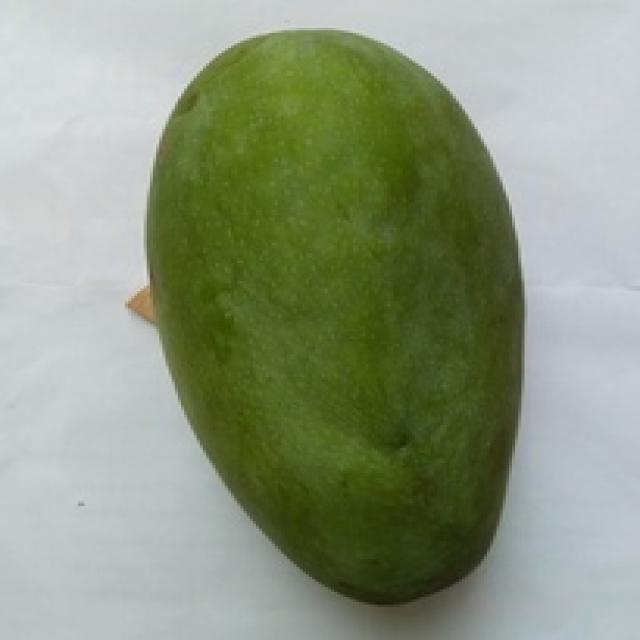Mango: (150, 33, 521, 602)
